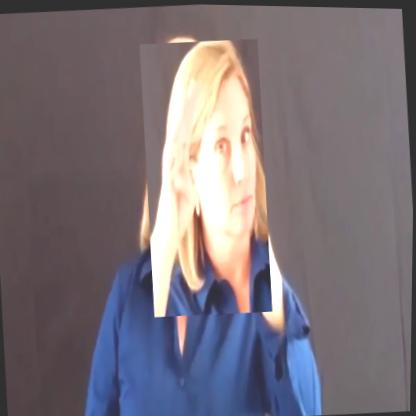Hello: (136, 35, 277, 319)
